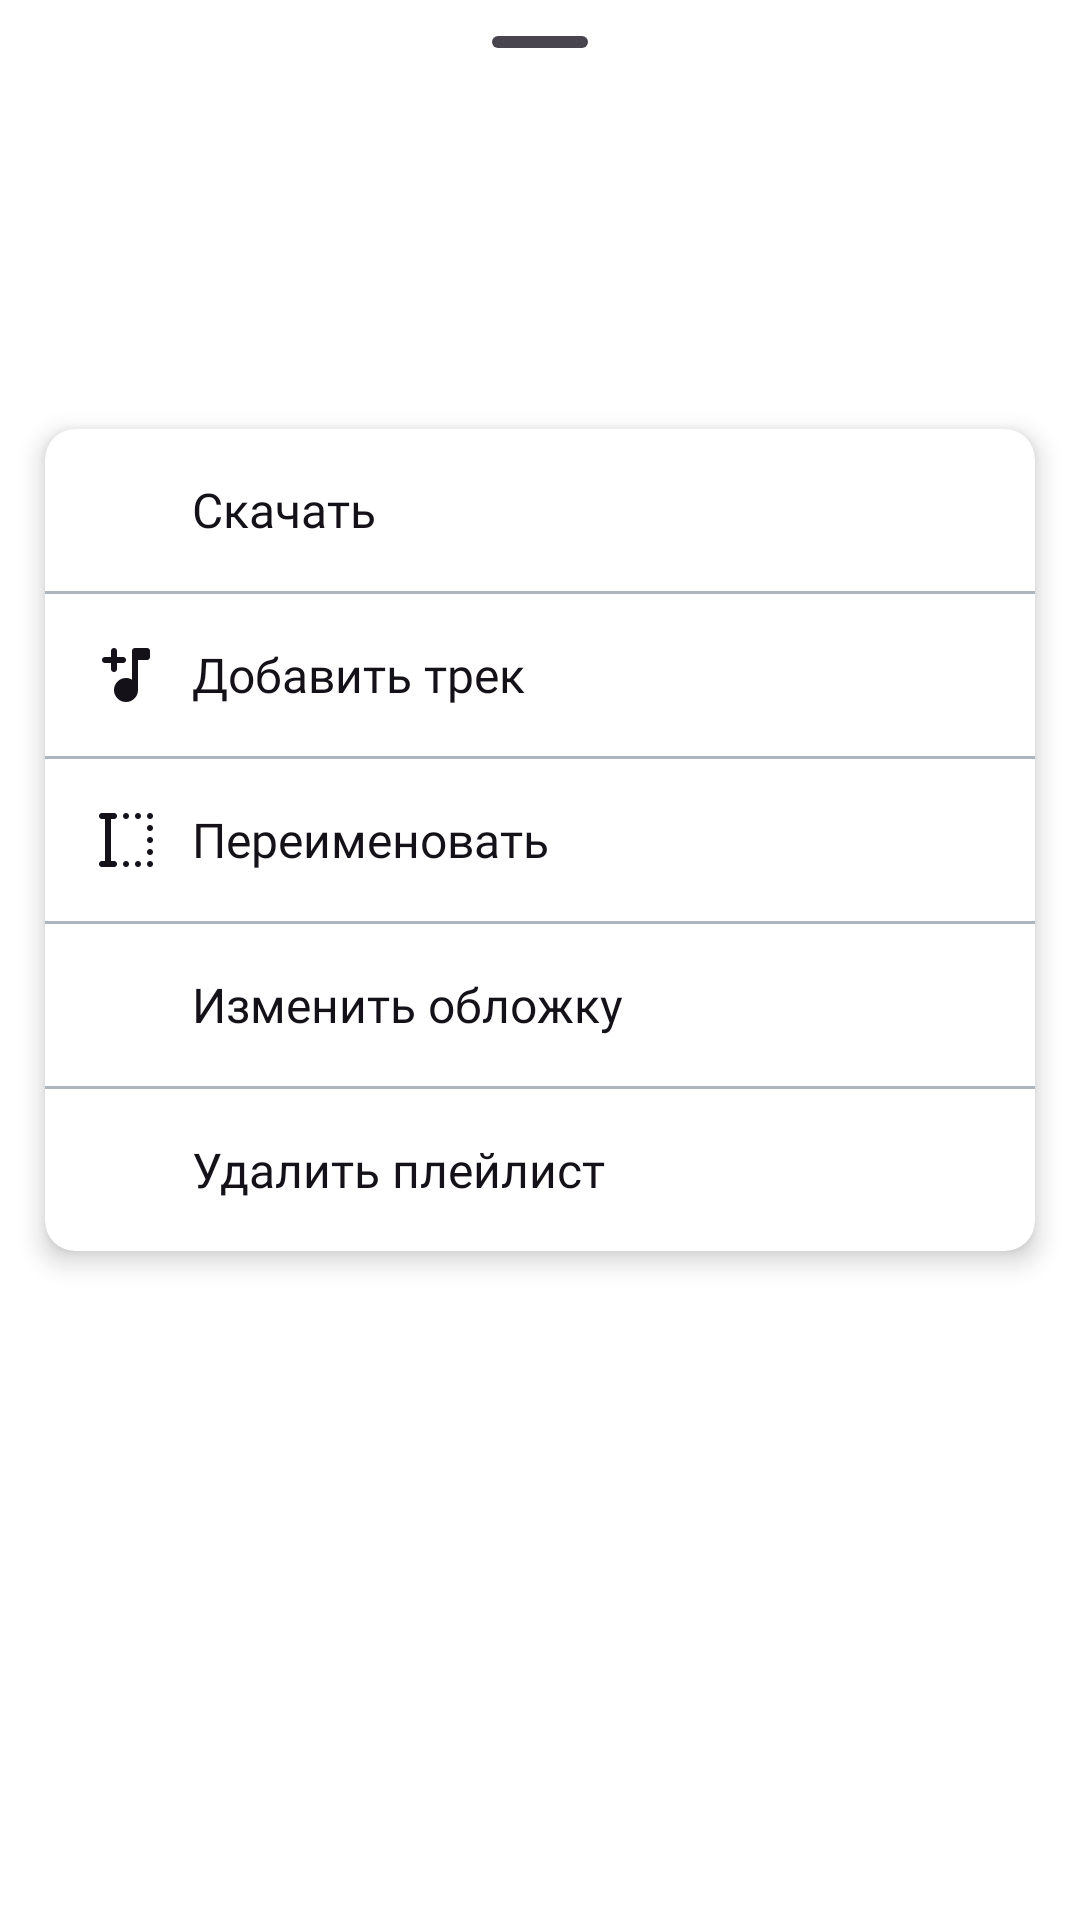

Named icons in this screenshot (1080px x 1920px) and their centers, [x,y]:
add note: [126,675]
text select: [126,840]
